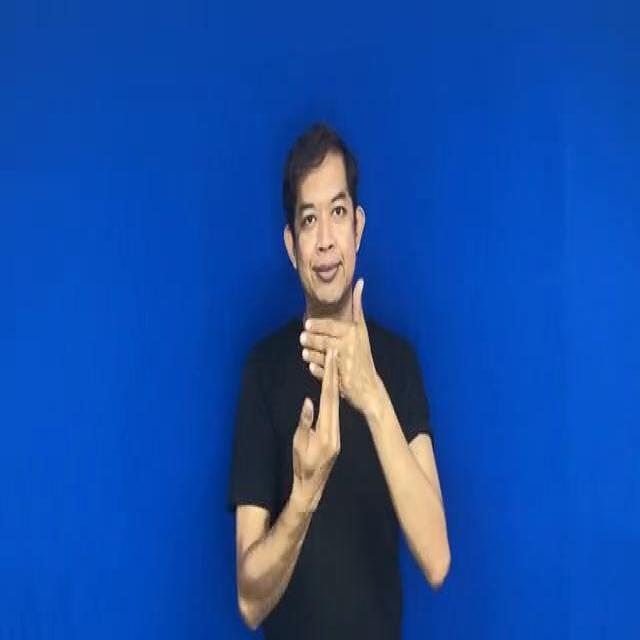bread: (278, 268, 396, 518)
